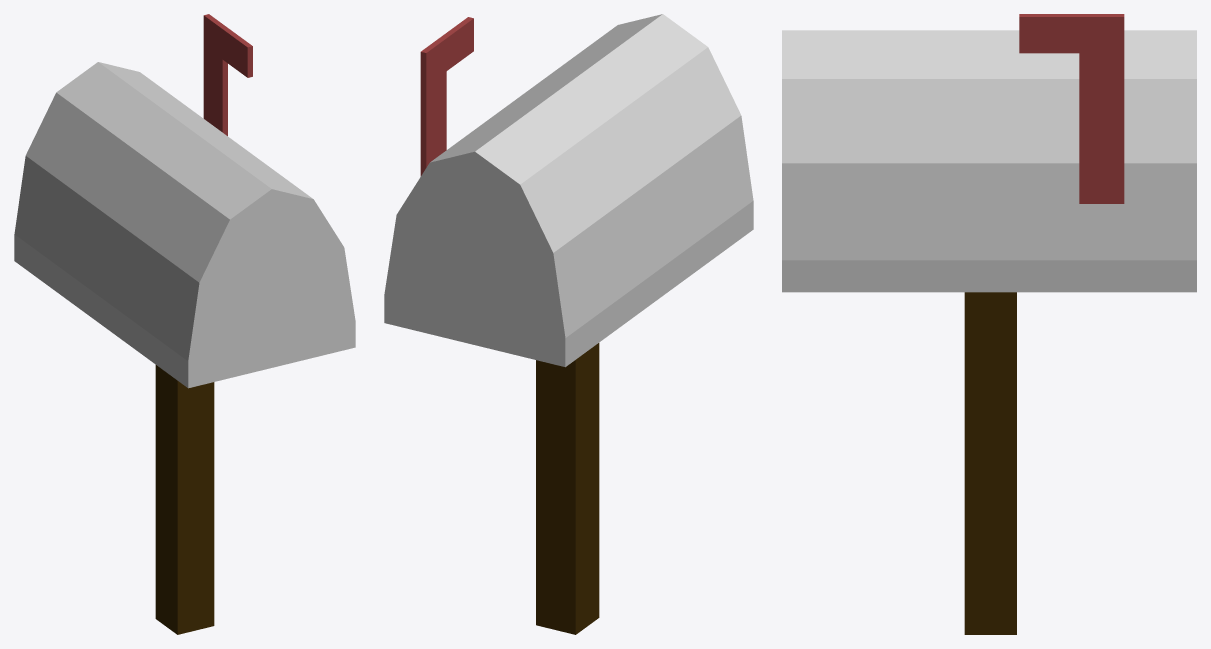
Rendered from Mailbox.fbx.
3 renders of one model, left to right at view 1: azimuth 30°, elevation 25°; view 2: azimuth 150°, elevation 25°; view 3: azimuth 270°, elevation 25°, orthographic. The views are drawn at different scales.
Visible parts, largest first — view 1: Mailbox; view 2: Mailbox; view 3: Mailbox.
Boxes of the visible parts, x1,y1,x2,y2 form: Mailbox: (14, 14, 355, 634); Mailbox: (384, 14, 753, 634); Mailbox: (782, 14, 1196, 634).
Size of the model in its own units: 0.5047 by 1.58 by 0.9082.
